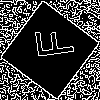F: (25, 25, 75, 62)
